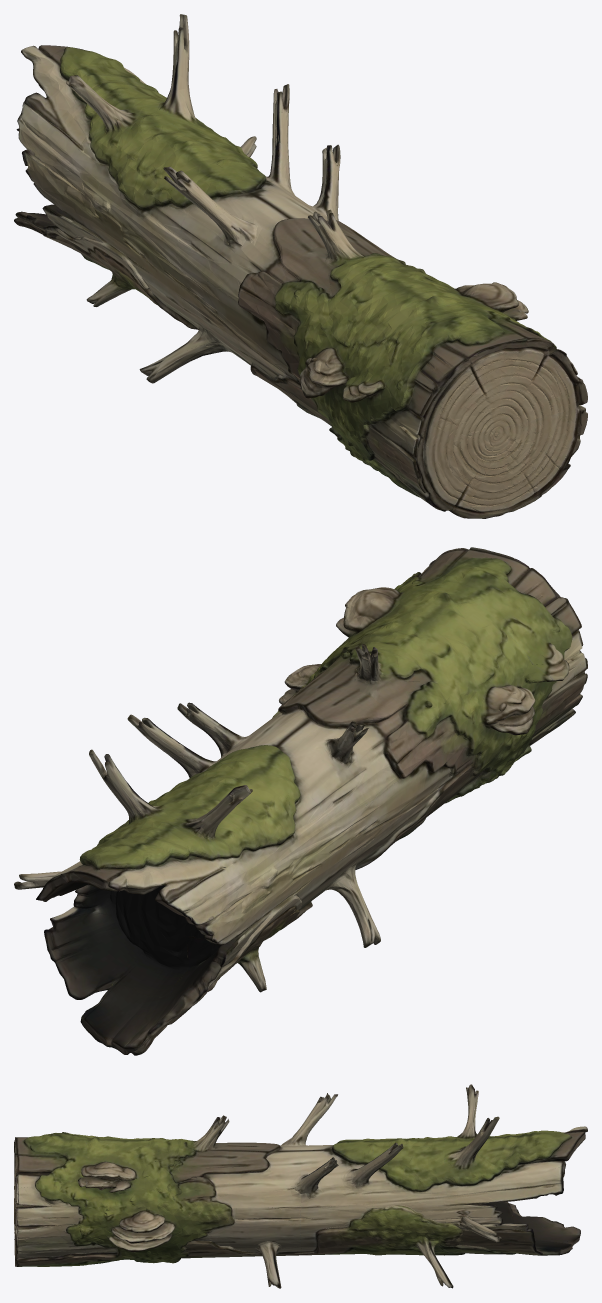
Rendered from deadwood.glb.
The picture shows the model from 3 angles, top to bottom: view 1: azimuth 30°, elevation 25°; view 2: azimuth 150°, elevation 25°; view 3: azimuth 270°, elevation 25°; orthographic projection. The views are drawn at different scales.
Parts seen in each view (by area): view 1: world; view 2: world; view 3: world.
Part boxes in pixels (box(x1,y1,x2,y2)): world: box(14, 14, 587, 518); world: box(14, 547, 587, 1055); world: box(14, 1084, 587, 1288).
Size of the model in its own units: 0.3151 by 0.3133 by 1.
1 material, 1 textured.
